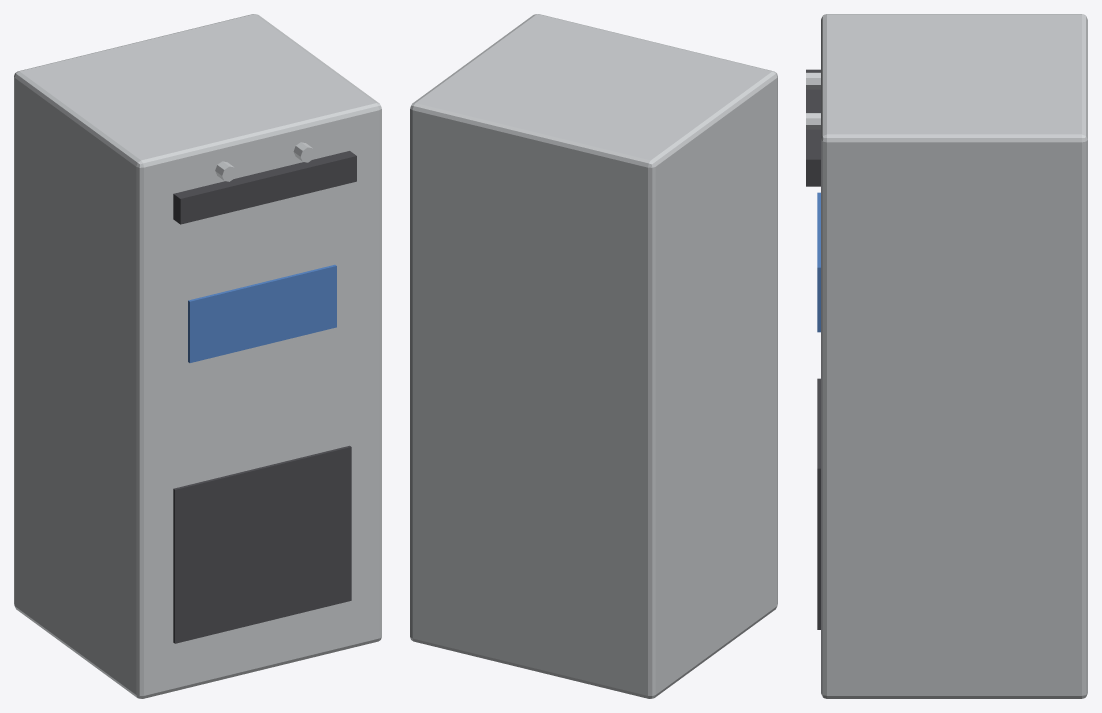
File: water_cooler.gltf
3 renders of one model, left to right at view 1: azimuth 30°, elevation 25°; view 2: azimuth 150°, elevation 25°; view 3: azimuth 270°, elevation 25°, orthographic. The views are drawn at different scales.
Visible parts, largest first — view 1: Cabinet, Grille, Sign, Basin; view 2: Cabinet; view 3: Cabinet, Basin, Grille, Sign.
Boxes of the visible parts, box(x1,y1,x2,y2) form: Cabinet: box(14, 14, 381, 698); Grille: box(173, 445, 351, 643); Sign: box(188, 264, 336, 362); Basin: box(173, 151, 356, 224); Cabinet: box(410, 14, 777, 698); Cabinet: box(821, 14, 1087, 698); Basin: box(806, 69, 820, 186); Grille: box(817, 378, 820, 629); Sign: box(817, 192, 820, 332).
Bounding box in the file's own units: 0.5 × 1.05 × 0.475.
